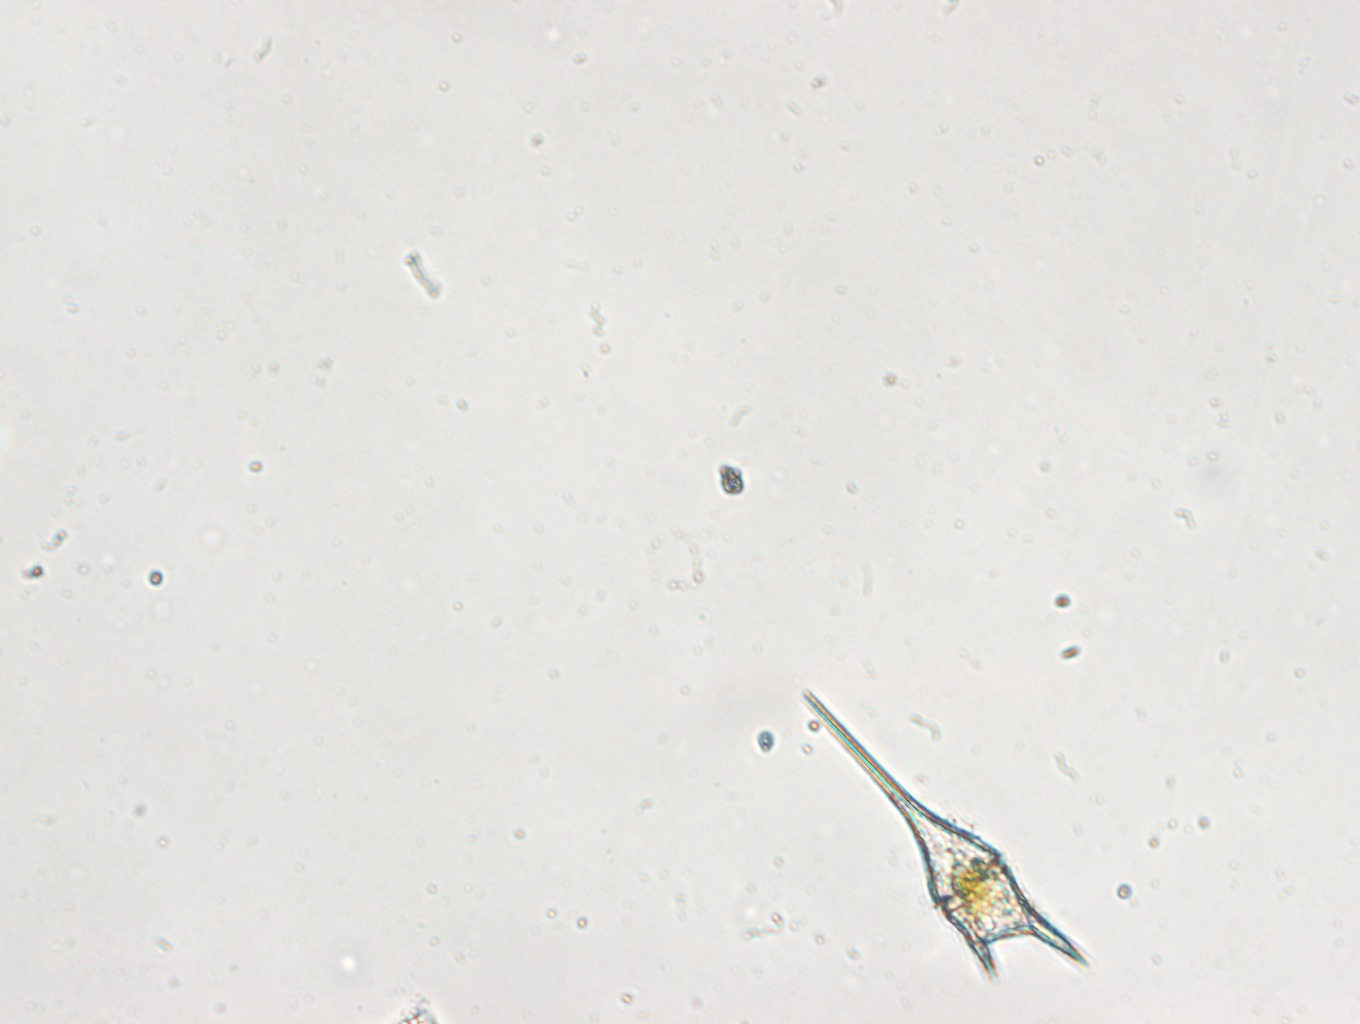ceratium furca: (794, 684, 1094, 986)
